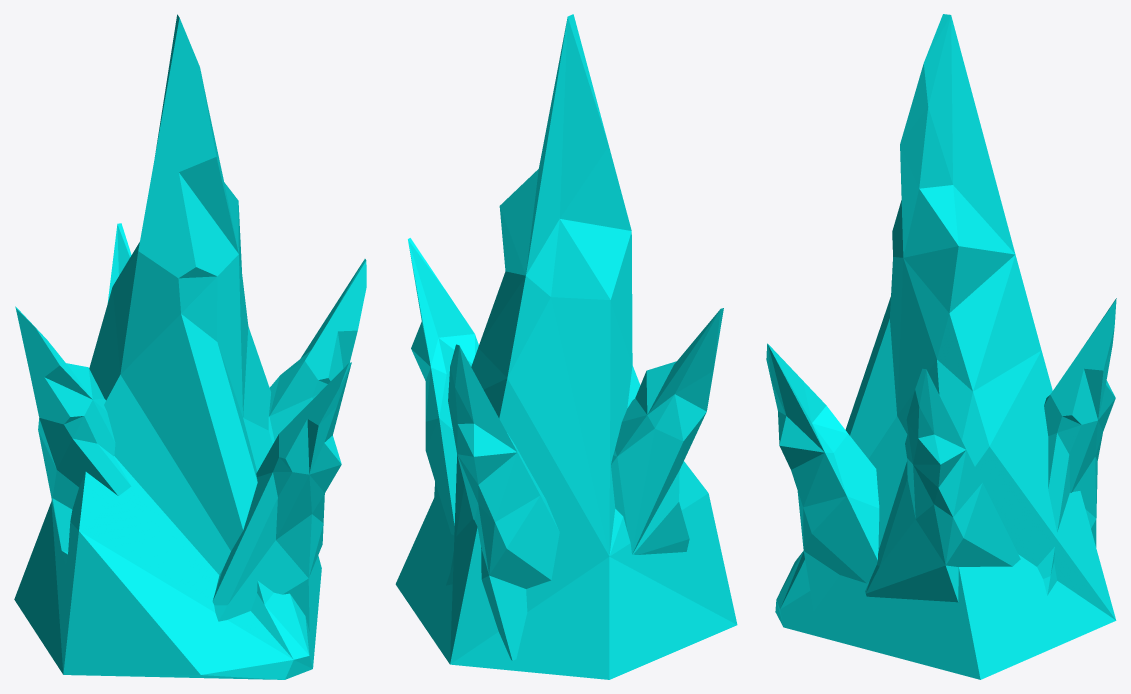
File: iceHorn.obj
3 renders of one model, left to right at view 1: azimuth 30°, elevation 25°; view 2: azimuth 150°, elevation 25°; view 3: azimuth 270°, elevation 25°, orthographic. The views are drawn at different scales.
Parts seen in each view (by area): view 1: 円錐; view 2: 円錐; view 3: 円錐.
Boxes of the visible parts, x1,y1,x2,y2 form: 円錐: (14, 14, 366, 679); 円錐: (395, 14, 737, 679); 円錐: (766, 14, 1116, 679).
Size of the model in its own units: 2.21 by 3.81 by 2.05.
1 material, 1 textured.
